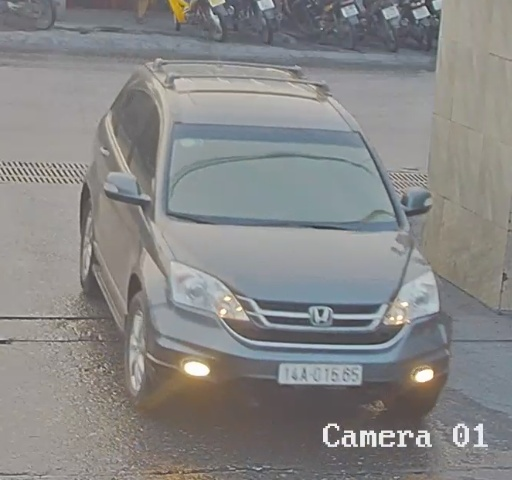vehicle plate: (274, 358, 369, 389)
